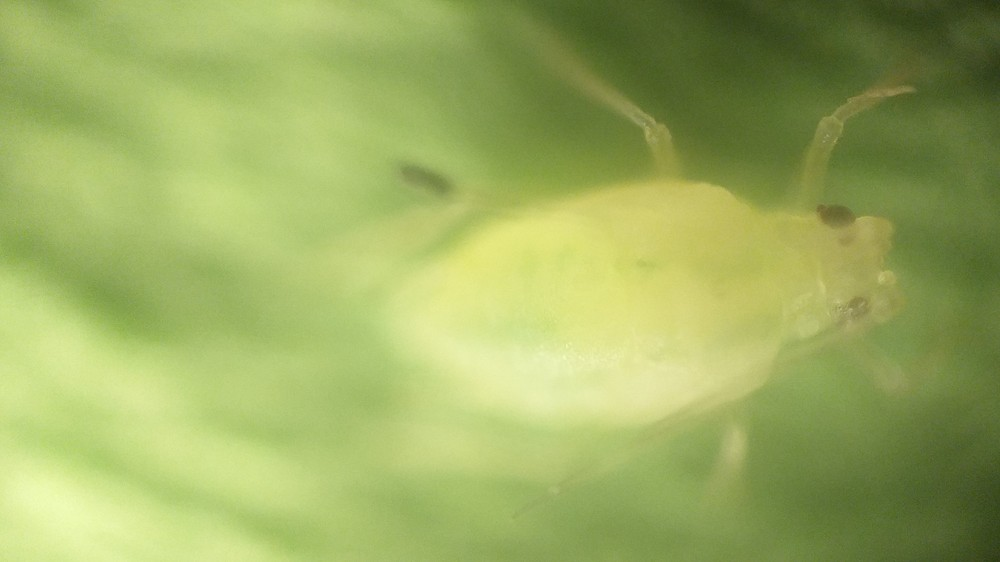Pulgon: (334, 25, 993, 517)
